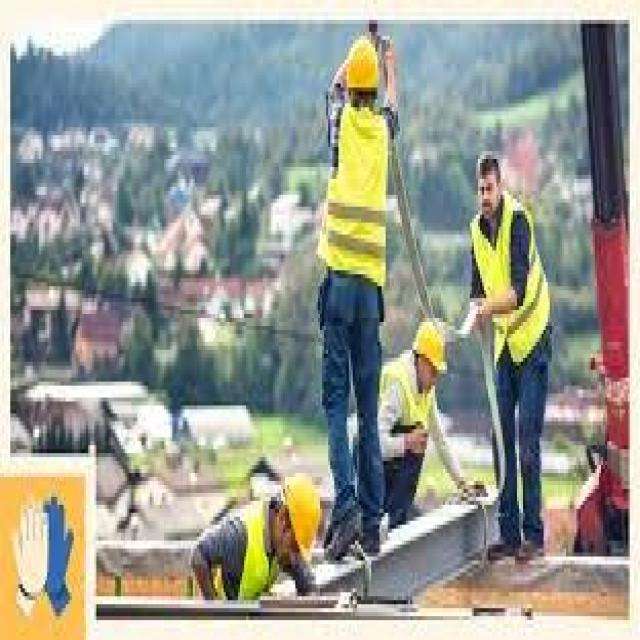Reflective-Jacket: (312, 103, 398, 306), (463, 195, 556, 378), (367, 338, 443, 469), (203, 481, 283, 604)
Safety-Helmet: (277, 457, 328, 577), (332, 28, 386, 103), (406, 306, 453, 386)
